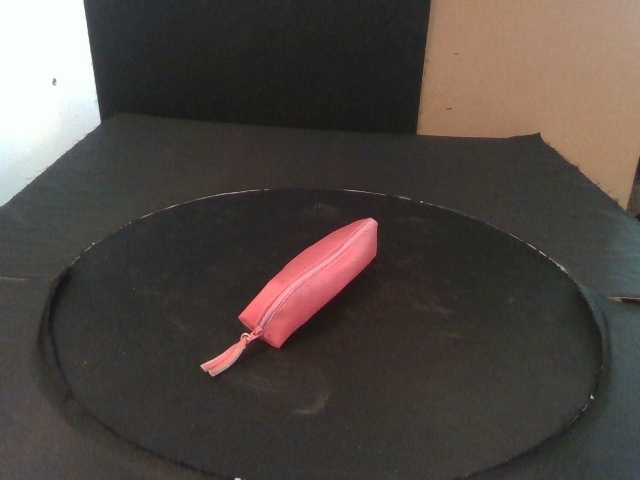pencil_case: (238, 217, 378, 350)
